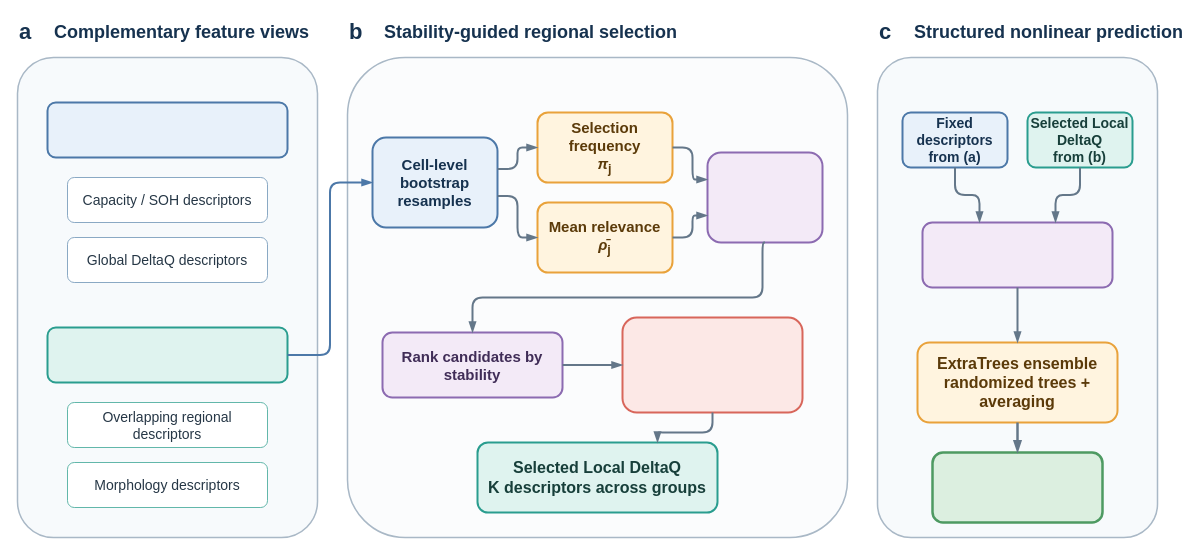
The diagram is 1201 pixels wide and 555 high, and some of its shapes have lost their labels. Here are the shapes that lost their labels. From the top down, the centre of each, then its label:
the point at 167,129: Fixed view
the point at 764,197: Stability score z j
the point at 1017,254: Structured feature vector
the point at 167,354: Local view
the point at 712,364: Group-cap constraint at most c per region
the point at 1017,487: Predicted knee cycle ŷ
